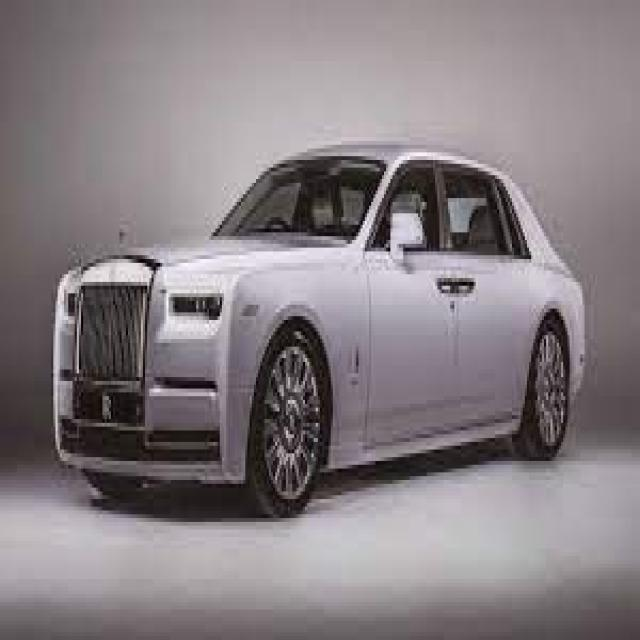car: (33, 136, 608, 533)
